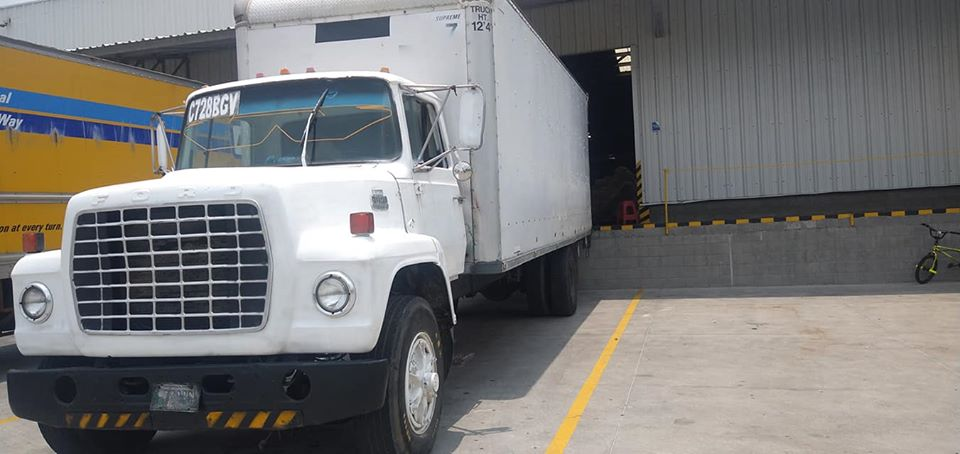camion: (11, 7, 595, 446)
